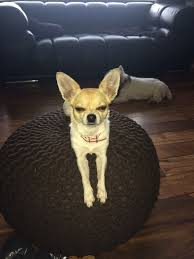chihuahua: (49, 58, 132, 207)
